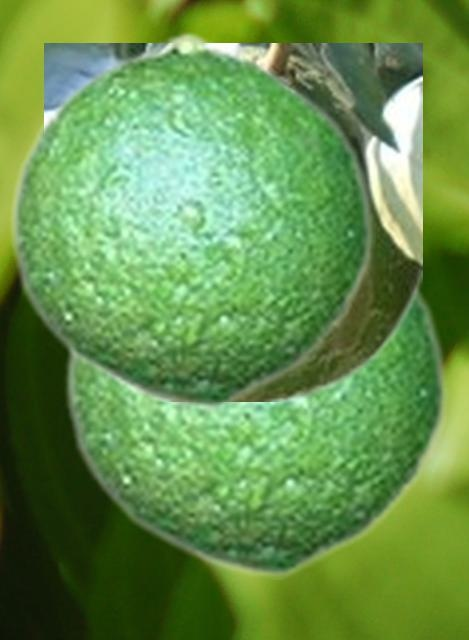dalandan: (6, 30, 374, 410), (44, 43, 421, 400), (61, 283, 448, 578)
